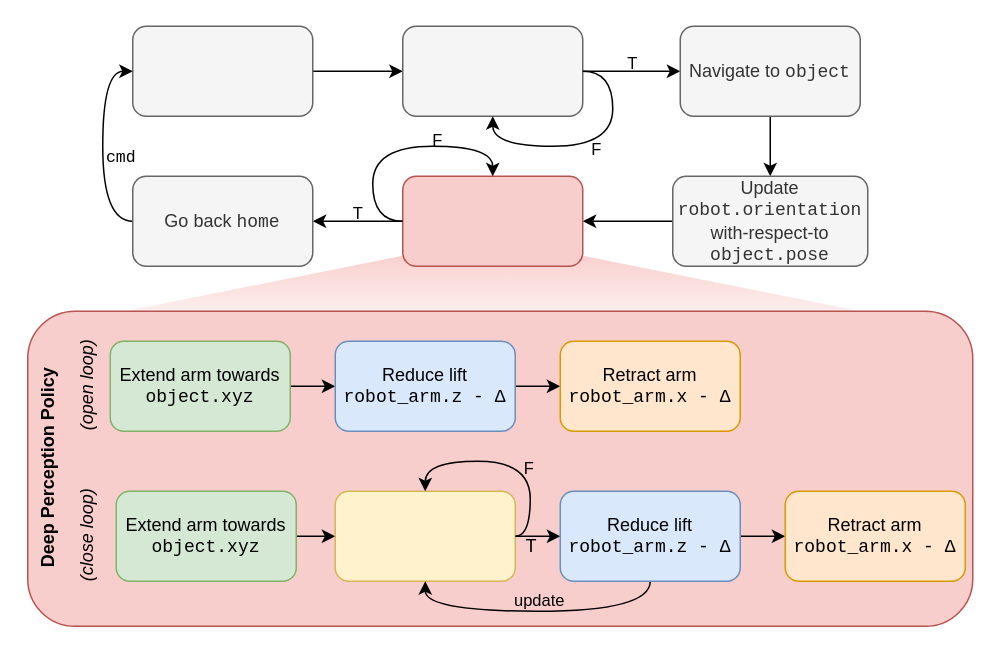
Image size: 999x653. Some labels were removed from this diagram. The shapes that lost their labels are listed below. From the top down, each one's centre as x and y in pixels, then its label:
At pixel 222 70: "update environment env.reset".
At pixel 492 70: "Search for object".
At pixel 492 220: "Execute Deep Perception Policy".
At pixel 424 535: "Orient end-effector towards object.centre".
